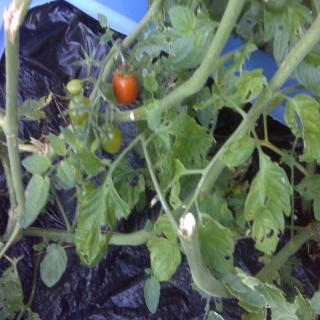tomato: (111, 63, 137, 105), (99, 121, 122, 155), (69, 93, 90, 126)
